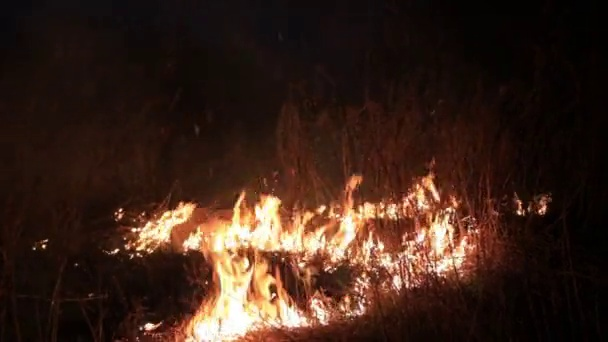fire: (202, 190, 400, 263), (175, 257, 329, 342), (401, 217, 478, 281), (123, 201, 196, 252), (408, 172, 441, 207), (182, 226, 203, 249), (538, 199, 547, 214)
